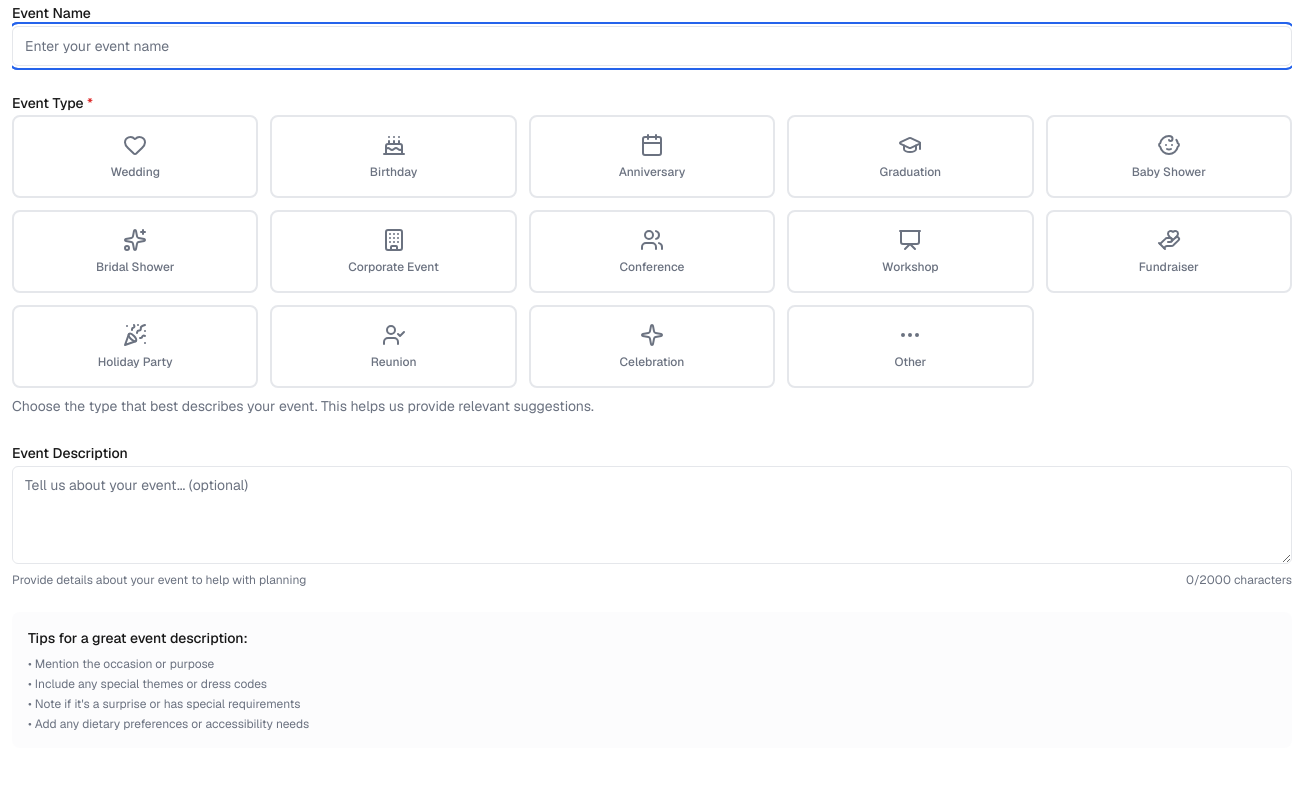
Test case: BasicInfoStep › Event Name Field › shows character count when text is entered
In the field labelled "Event Name": (652, 46) [12,26,1292,66], type "Test Event"
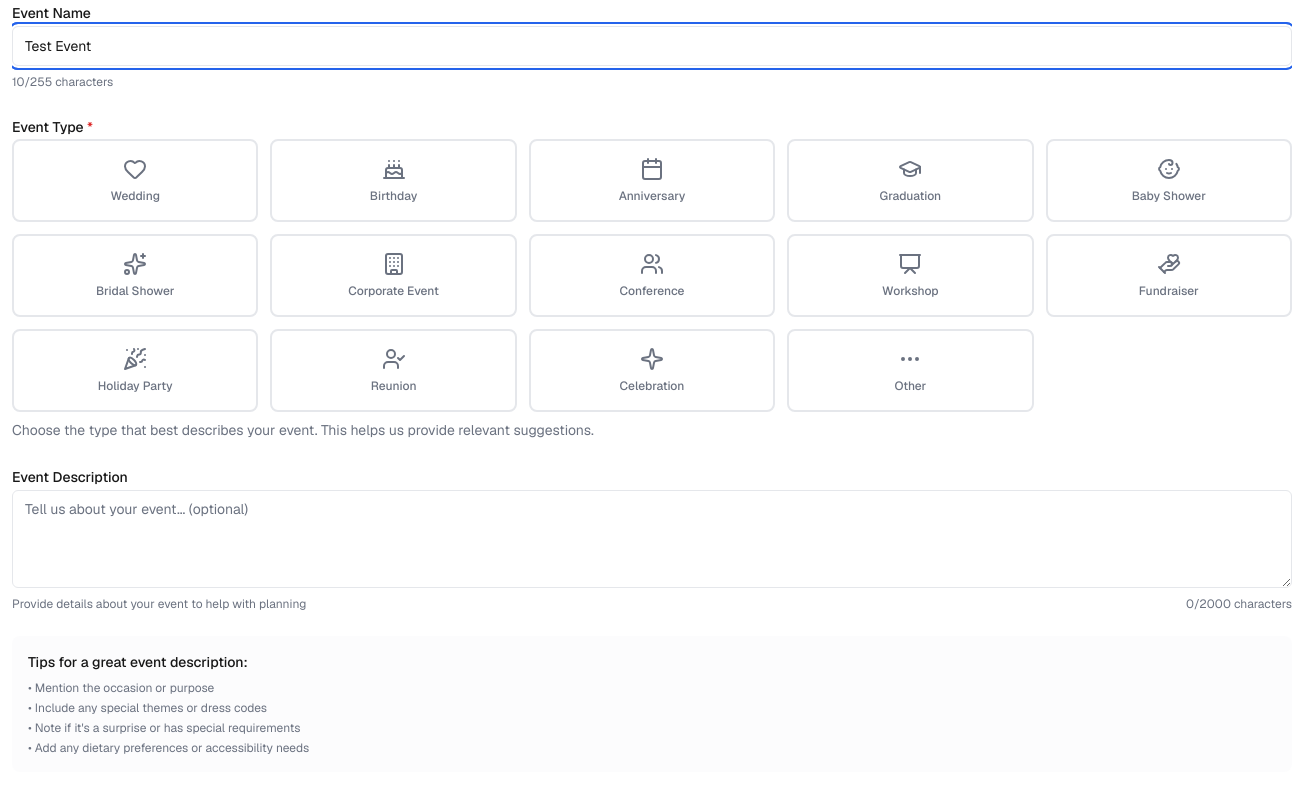
expect the text "10/255 characters" is shown: met, box [12,74,113,90]
